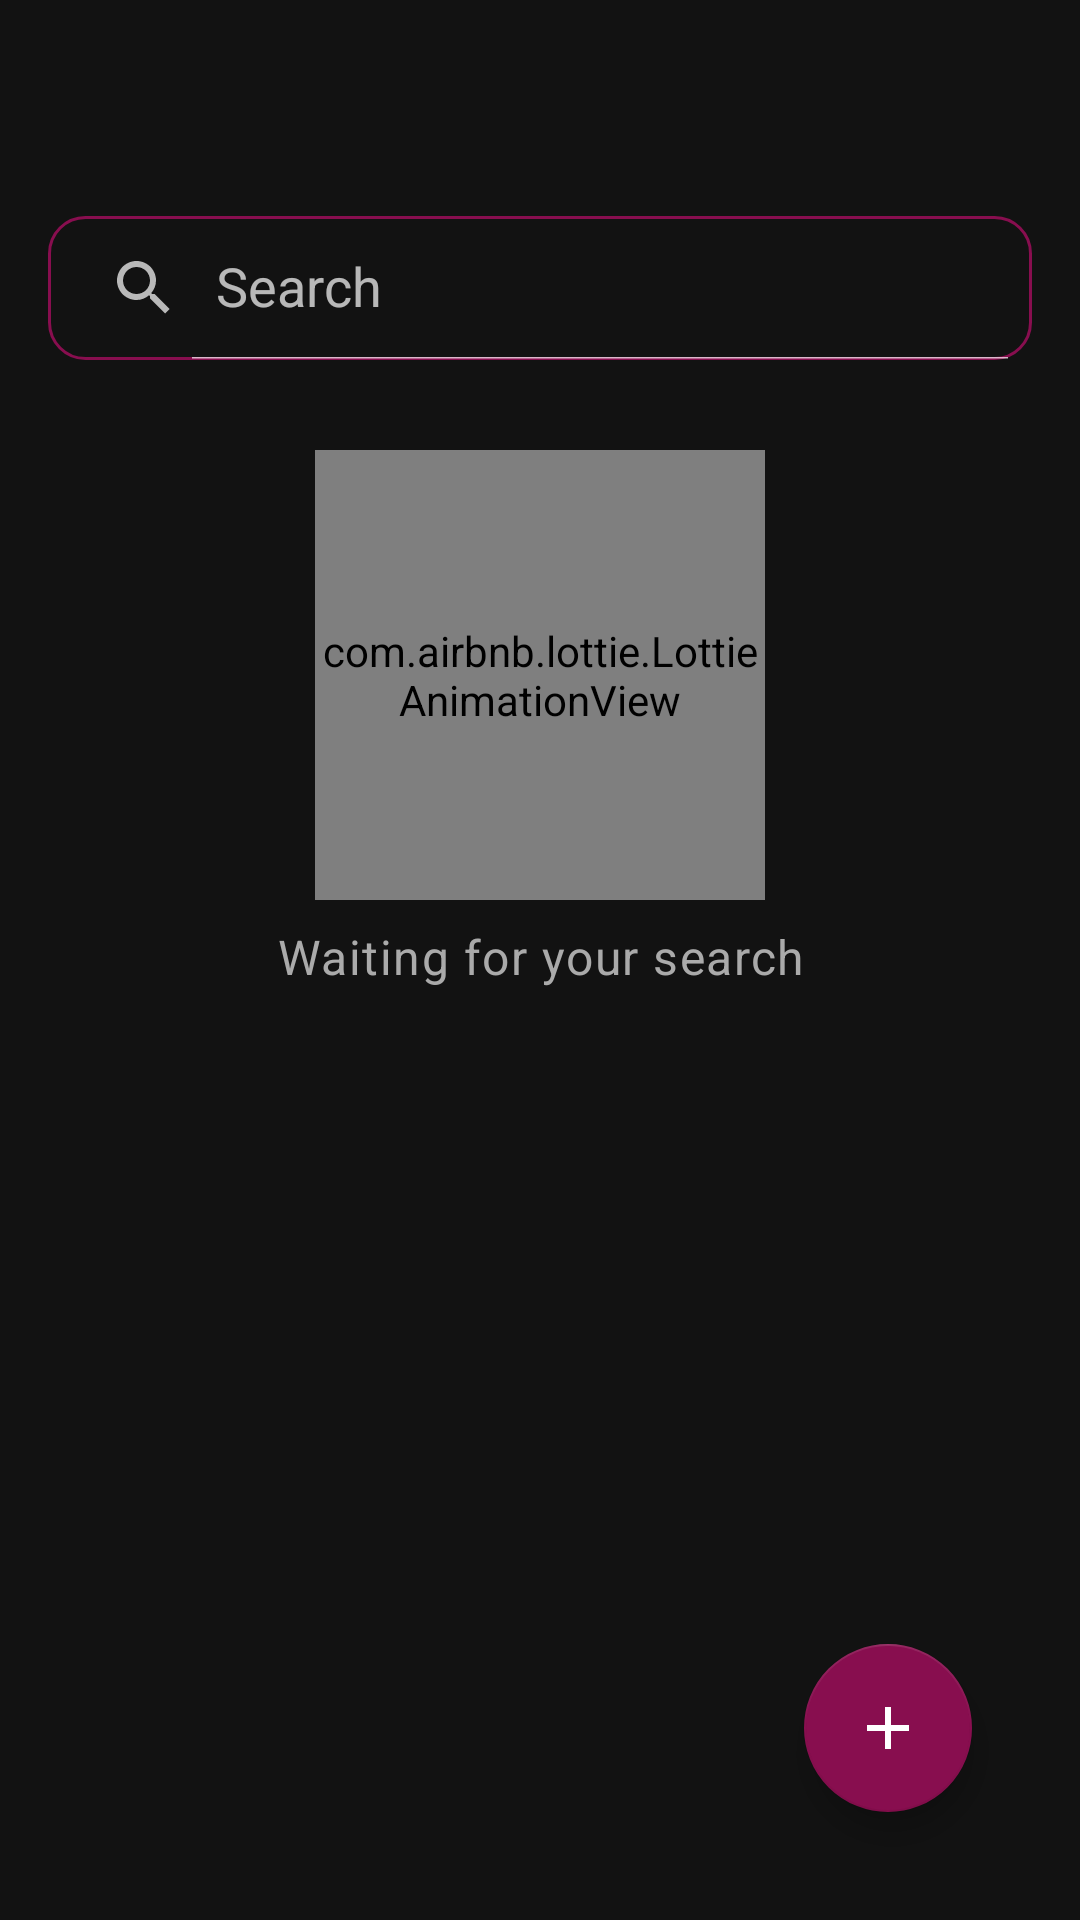

Icons on this 1080px×1920px Android screen, each with the point to tap as (x,y):
add: (888,1728)
